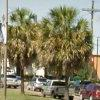Palm tree: (12, 5, 38, 99)
